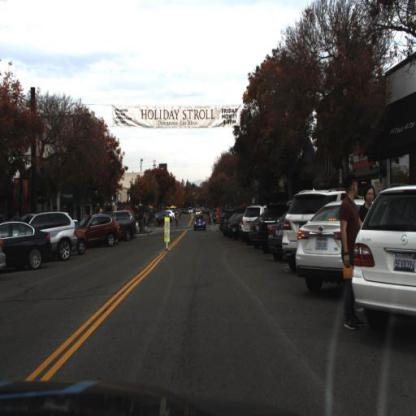car: (354, 184, 416, 334), (293, 200, 374, 294), (284, 188, 349, 277), (1, 218, 52, 266), (32, 211, 78, 262), (72, 213, 120, 255), (258, 207, 288, 255), (242, 206, 265, 242), (112, 210, 136, 241), (195, 215, 207, 232)
pedestrian: (340, 168, 367, 335)
